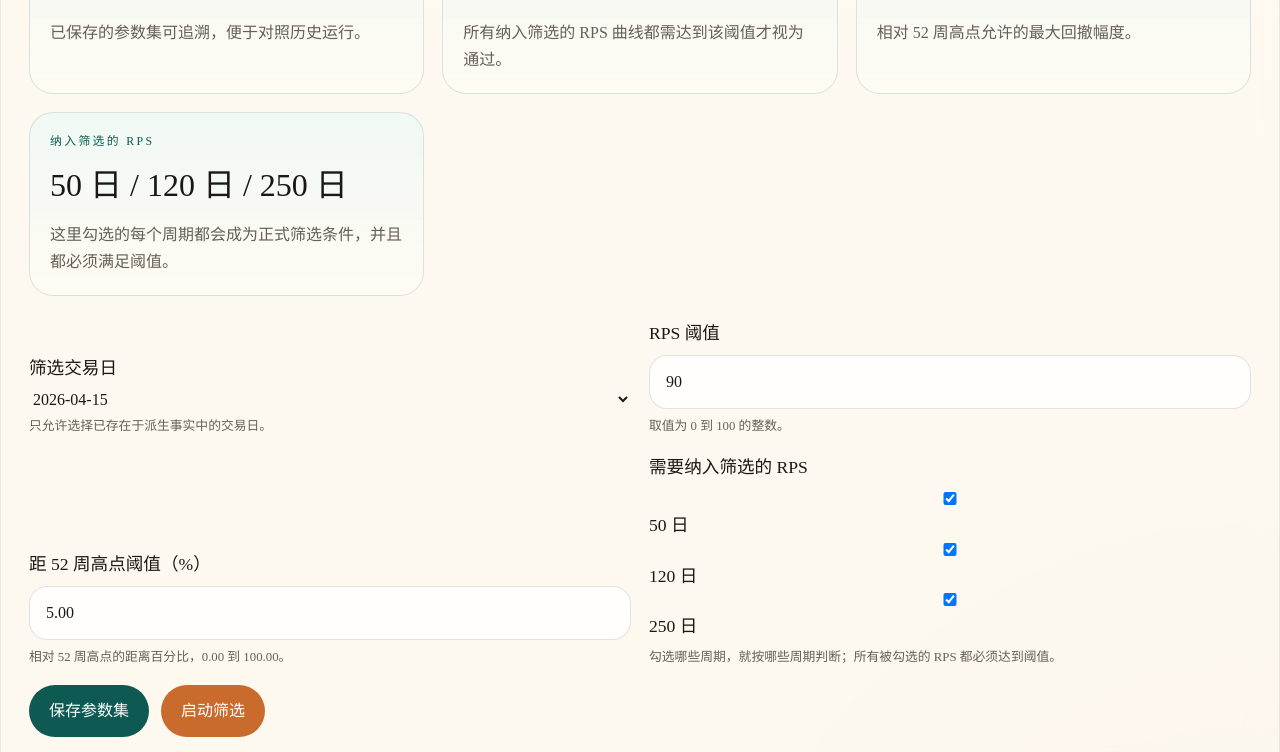
Scenario: StrategyConfigPanel › saves the strategy configuration and updates the active version
(page scrolled)
Step 1. Replace the text in the number field labelled "RPS 阈值 取值为 0 到 100 的整数。" with "95" → (950,382), box left=649, top=355, right=1251, bottom=409
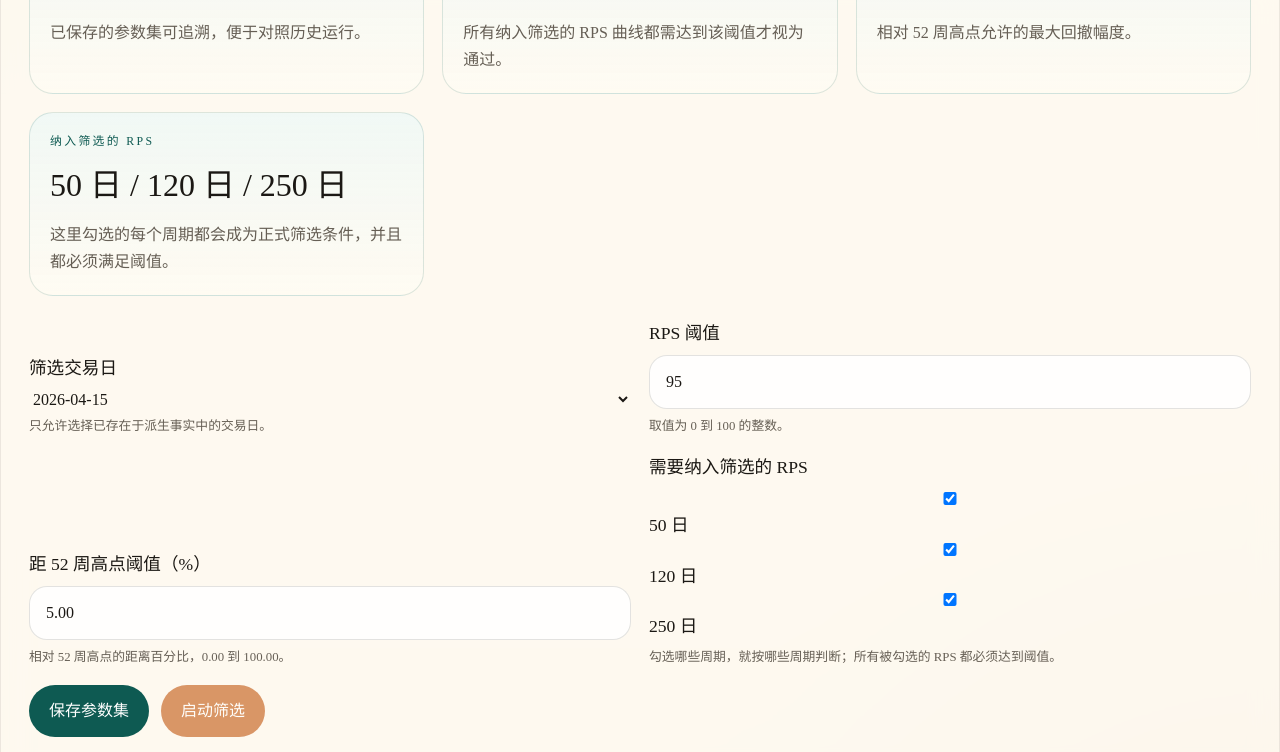
Step 2. Click the button "保存参数集" → (89,711), box left=29, top=685, right=149, bottom=737
(page scrolled)
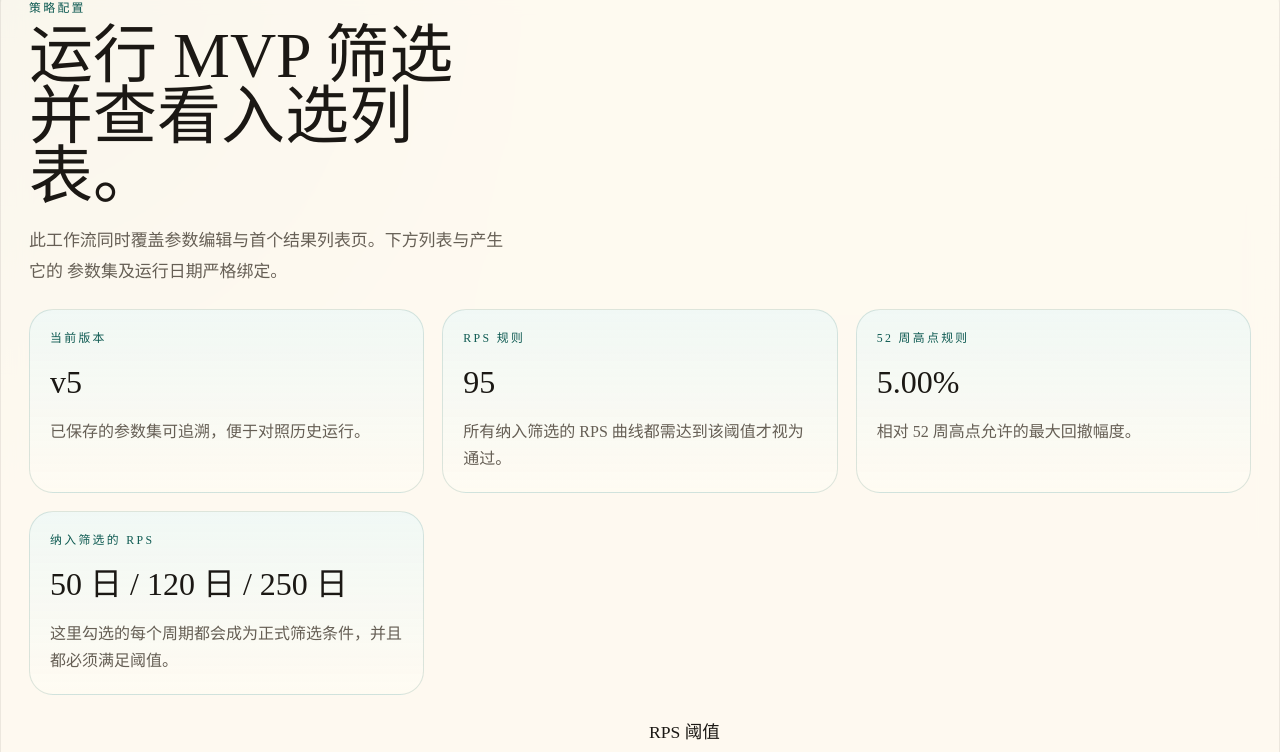
Expected: the heading "v5" is shown, left=50, top=364, right=82, bottom=400
